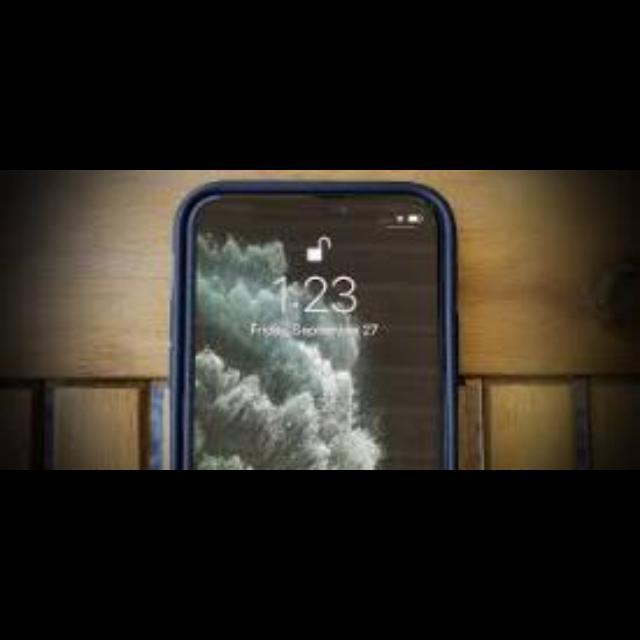PhoneUse: (169, 179, 455, 469)
